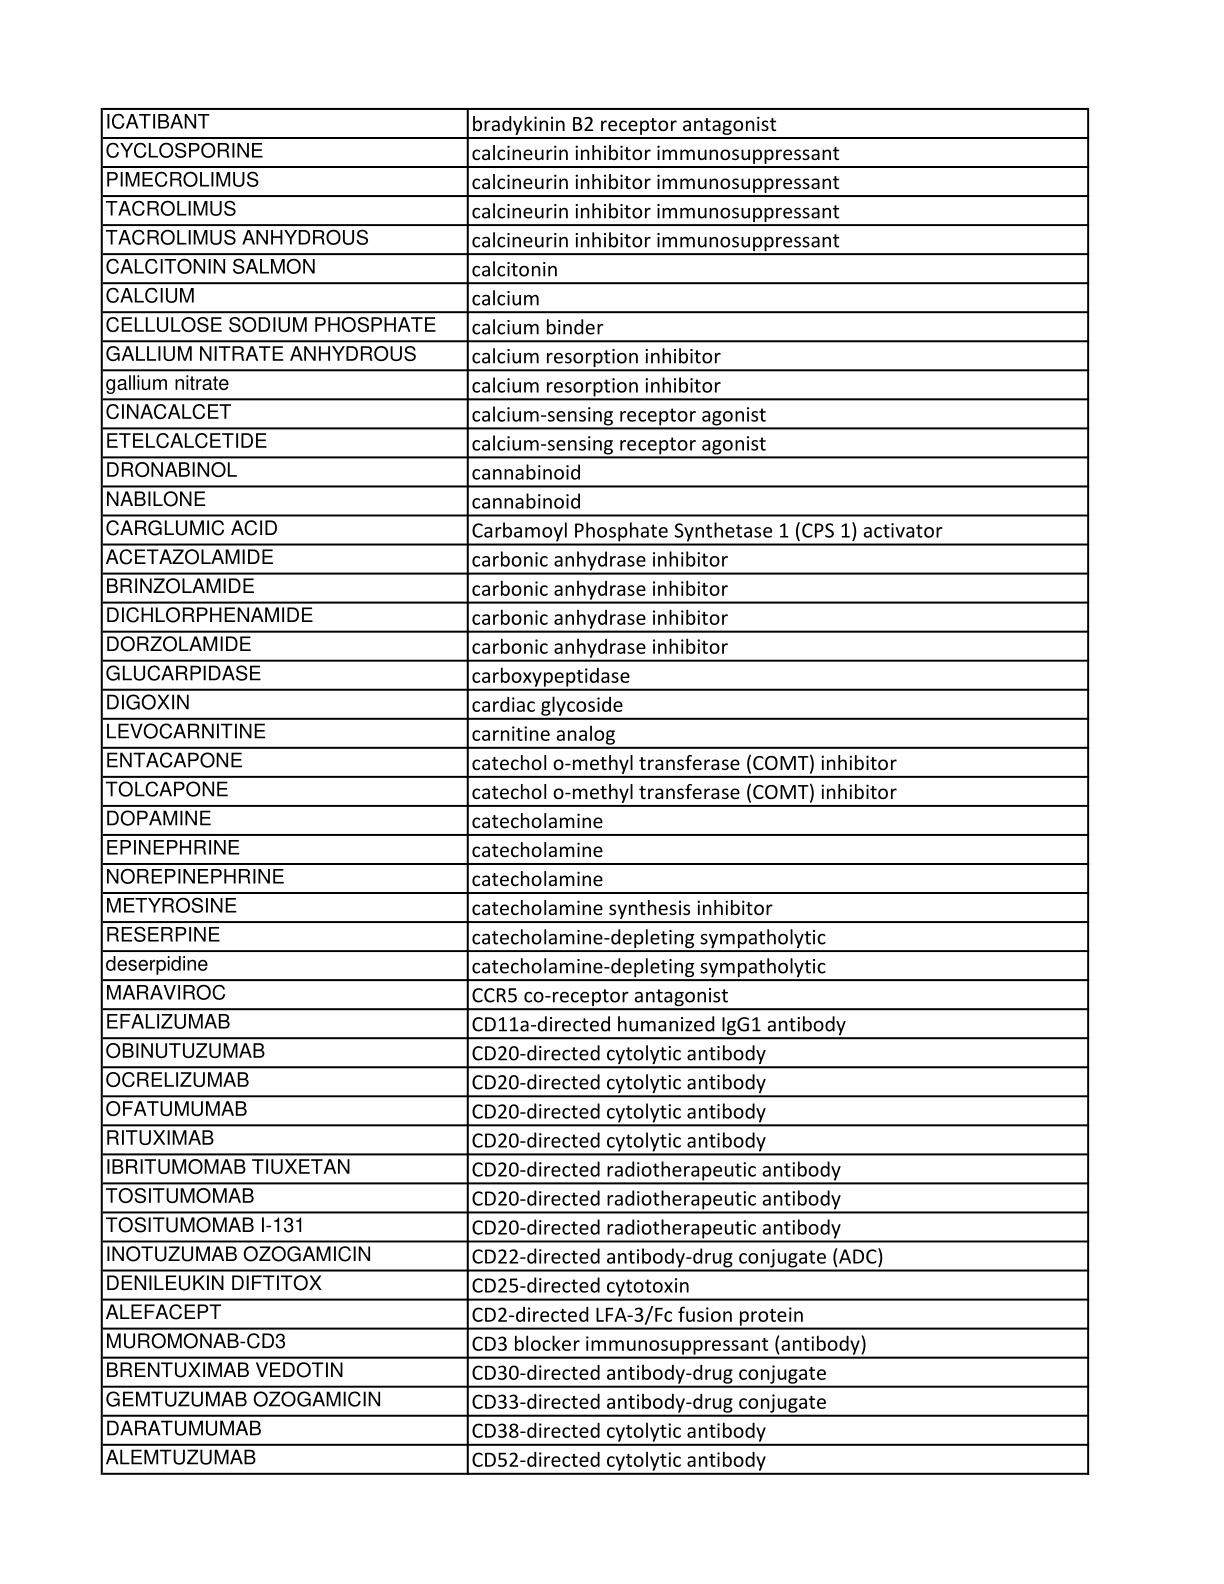full_lined: (102, 108, 1090, 1476)
